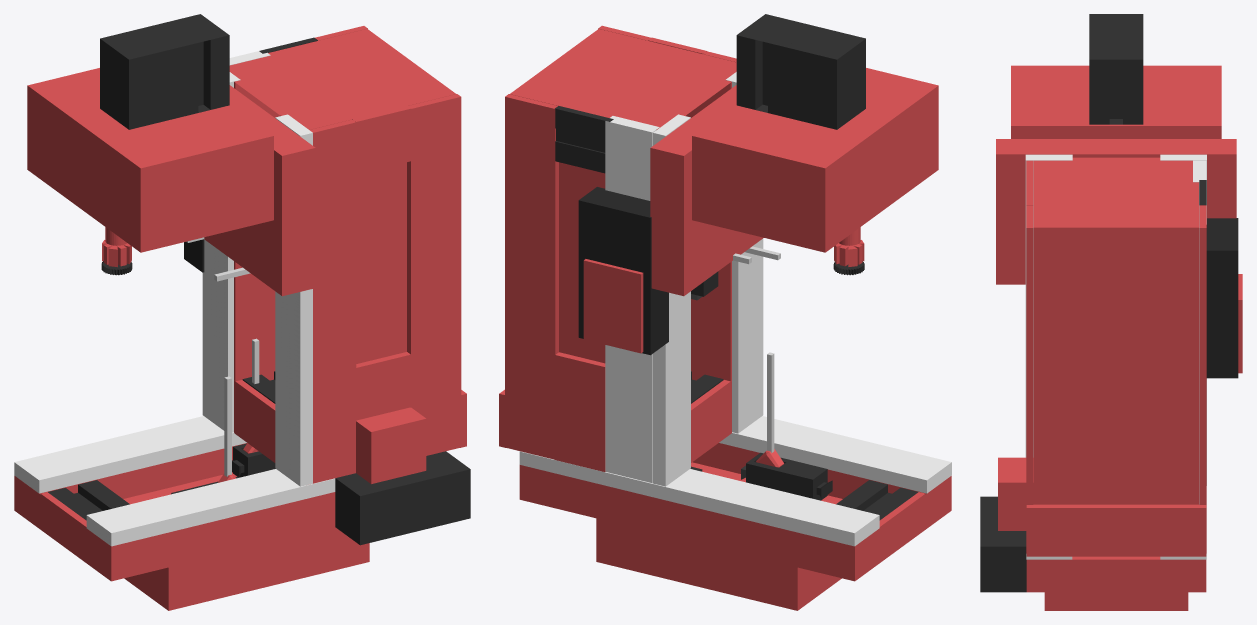
File: Torre.glb
3 views of the same model, side by side, from view 1: azimuth 30°, elevation 25°; view 2: azimuth 150°, elevation 25°; view 3: azimuth 270°, elevation 25° (orthographic). The views are drawn at different scales.
Parts seen in each view (by area): view 1: Cube.006, Cube.013, Torre Horizontal, Cube.025, Cube.015, Torre estática, Cube.022, Cube.009, Cube.026, Cube.011, Cube.032, Cube.010 (+9 smaller); view 2: Cube.006, Cube.013, Cube.019, Cube.025, Torre estática, Cube.012, Cube.026, Cube.007, Cube.009, Cube.032, Cube.010, Cube.023 (+9 smaller); view 3: Cube.013, Cube.006, Cube.020, Cube.025, Cube.007, Cube.031, Cube.022, Torre estática, Cube.019, Torre Horizontal, Cube.017, Cube.032 (+4 smaller).
Boxes of the visible parts, bbox=[...] form: Cube.006: bbox=[27, 68, 315, 296]; Cube.013: bbox=[229, 29, 455, 432]; Torre Horizontal: bbox=[407, 94, 461, 455]; Cube.025: bbox=[14, 443, 335, 581]; Cube.015: bbox=[309, 119, 356, 483]; Torre estática: bbox=[124, 527, 369, 610]; Cube.022: bbox=[335, 451, 470, 545]; Cube.009: bbox=[86, 469, 335, 546]; Cube.026: bbox=[14, 416, 246, 493]; Cube.011: bbox=[275, 114, 312, 486]; Cube.032: bbox=[100, 26, 179, 129]; Cube.010: bbox=[202, 72, 240, 432]; Cube.006: bbox=[650, 68, 938, 296]; Cube.013: bbox=[510, 29, 736, 381]; Cube.019: bbox=[505, 94, 558, 459]; Cube.025: bbox=[519, 443, 951, 581]; Torre estática: bbox=[596, 518, 841, 610]; Cube.012: bbox=[605, 116, 659, 483]; Cube.026: bbox=[519, 451, 879, 546]; Cube.007: bbox=[578, 187, 668, 355]; Cube.009: bbox=[719, 416, 951, 493]; Cube.032: bbox=[786, 26, 865, 129]; Cube.010: bbox=[653, 114, 690, 486]; Cube.023: bbox=[555, 352, 605, 471]; Cube.013: bbox=[1033, 157, 1198, 504]; Cube.006: bbox=[996, 65, 1236, 284]; Cube.020: bbox=[1026, 504, 1206, 556]; Cube.025: bbox=[1026, 556, 1206, 592]; Cube.007: bbox=[1206, 218, 1238, 378]; Cube.031: bbox=[1089, 36, 1143, 124]; Cube.022: bbox=[980, 496, 1026, 592]; Torre estática: bbox=[1044, 592, 1188, 610]; Cube.019: bbox=[1199, 205, 1206, 553]; Torre Horizontal: bbox=[1026, 205, 1033, 553]; Cube.017: bbox=[998, 457, 1033, 530]; Cube.032: bbox=[1089, 14, 1143, 36].
Size of the model in its own units: 10.62 by 15.32 by 7.3.
